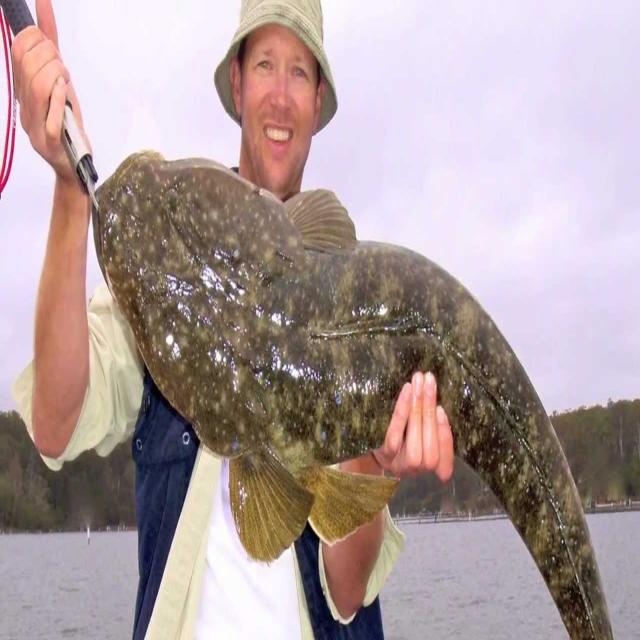Flathead: (82, 130, 618, 640)
